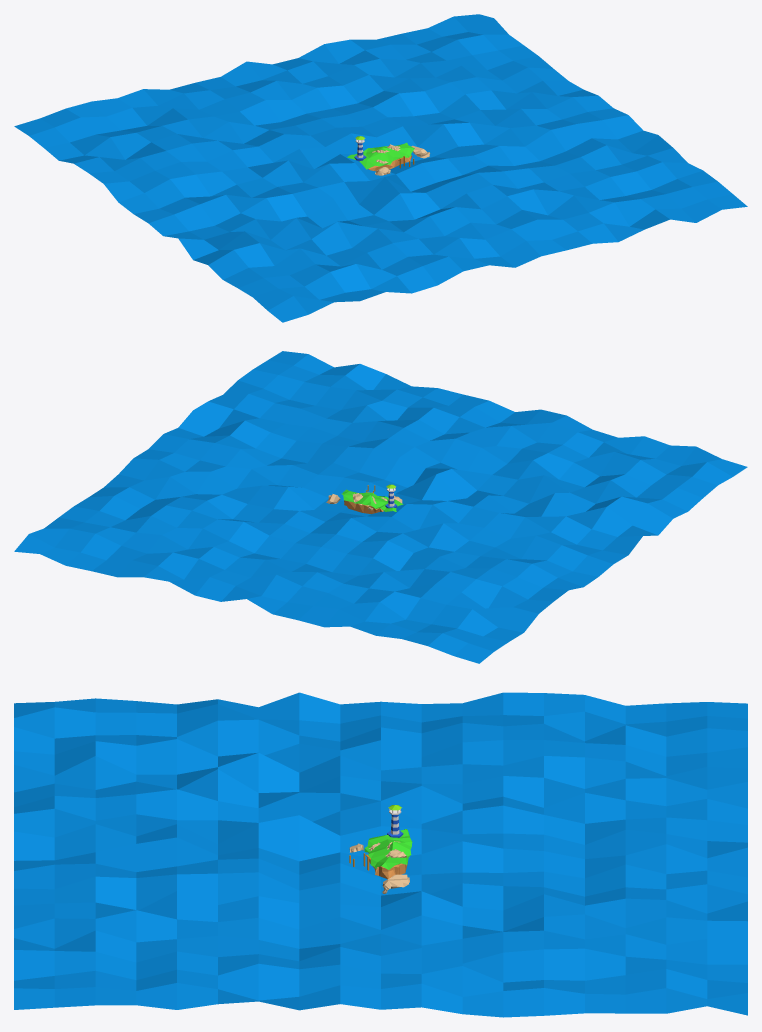
3 views of the same model, one above another, from view 1: azimuth 30°, elevation 25°; view 2: azimuth 150°, elevation 25°; view 3: azimuth 270°, elevation 25° (orthographic). The views are drawn at different scales.
Visible parts, largest first — view 1: Сетка, Сетка.002; view 2: Сетка, Сетка.002; view 3: Сетка, Сетка.002.
Part boxes in pixels (x1,y1,x2,y2): Сетка: [14, 14, 747, 322]; Сетка.002: [347, 142, 414, 169]; Сетка: [14, 351, 747, 663]; Сетка.002: [341, 489, 403, 511]; Сетка: [14, 692, 747, 1017]; Сетка.002: [364, 829, 412, 869].
Bounding box in the file's own units: 36.54 × 2.67 × 36.54.
